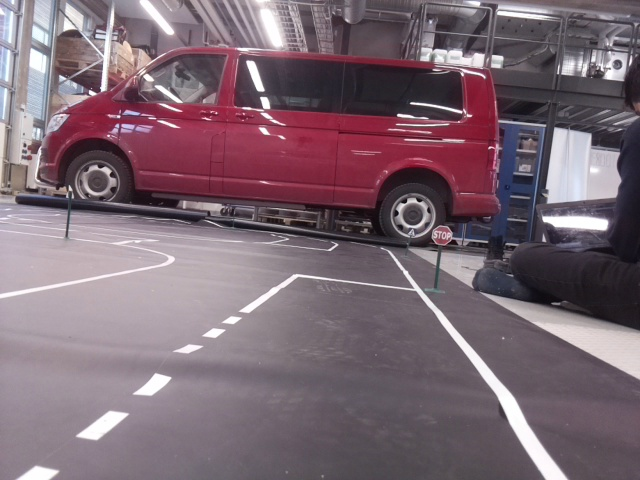Stop: (434, 223, 451, 245)
